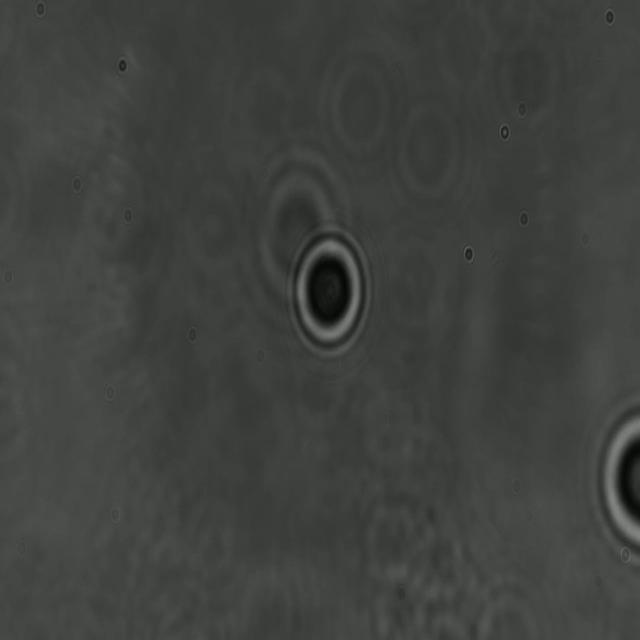DCELL: (284, 221, 376, 361)
